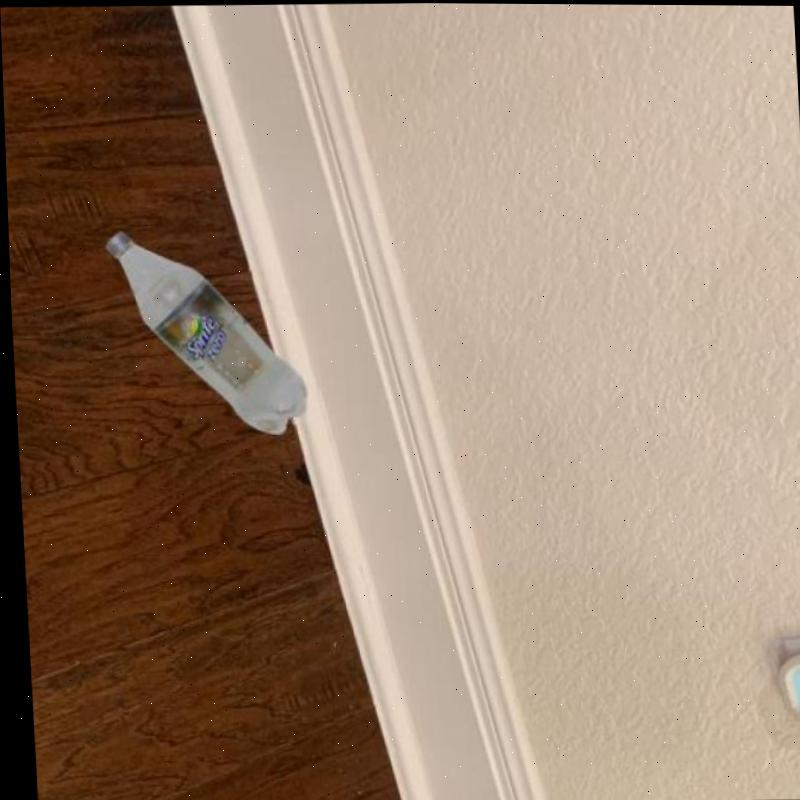botella: (101, 226, 306, 435)
